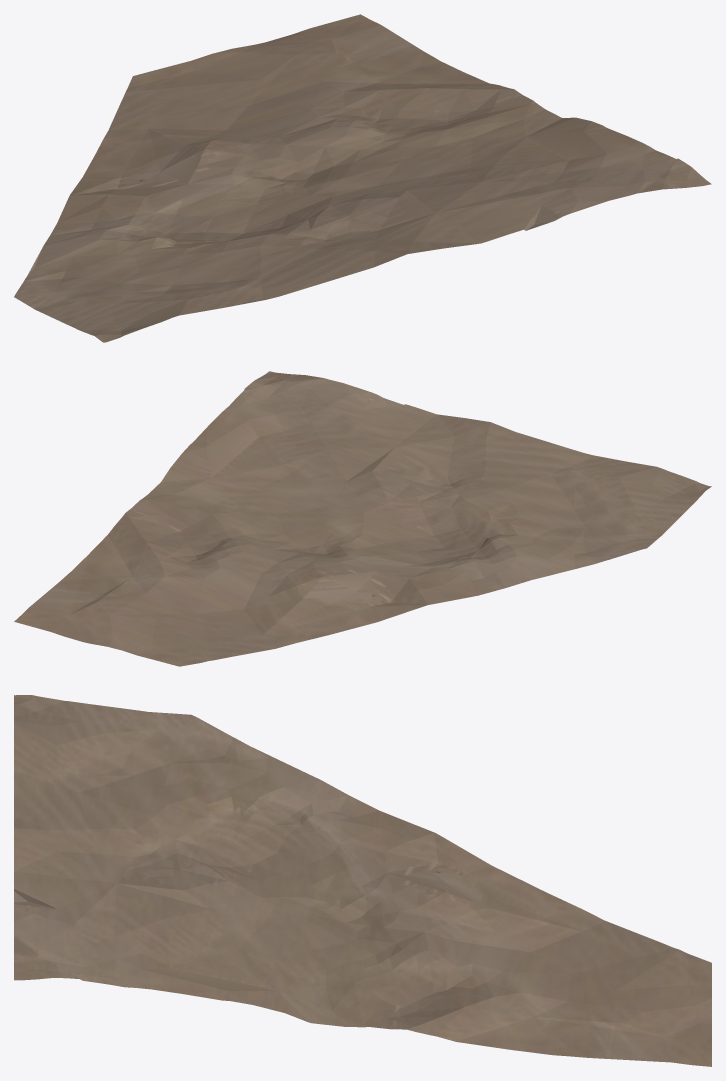
3 renders of one model, top to bottom at view 1: azimuth 30°, elevation 25°; view 2: azimuth 150°, elevation 25°; view 3: azimuth 270°, elevation 25°, orthographic. The views are drawn at different scales.
Size of the model in its own units: 4.18 by 0.6728 by 4.18.
Materials: 2 (2 with a texture image).
